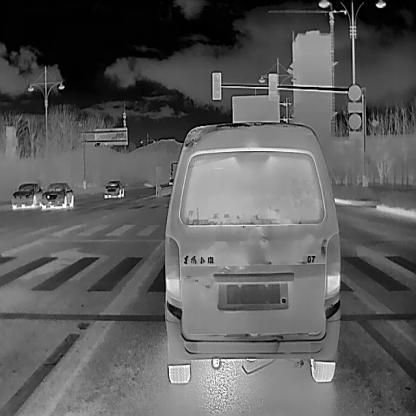car: (164, 119, 341, 381), (40, 180, 74, 209), (10, 182, 40, 206), (103, 178, 123, 197)
